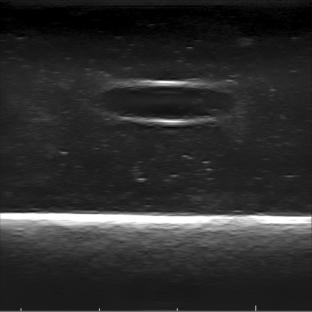vessel: (91, 80, 243, 126)
